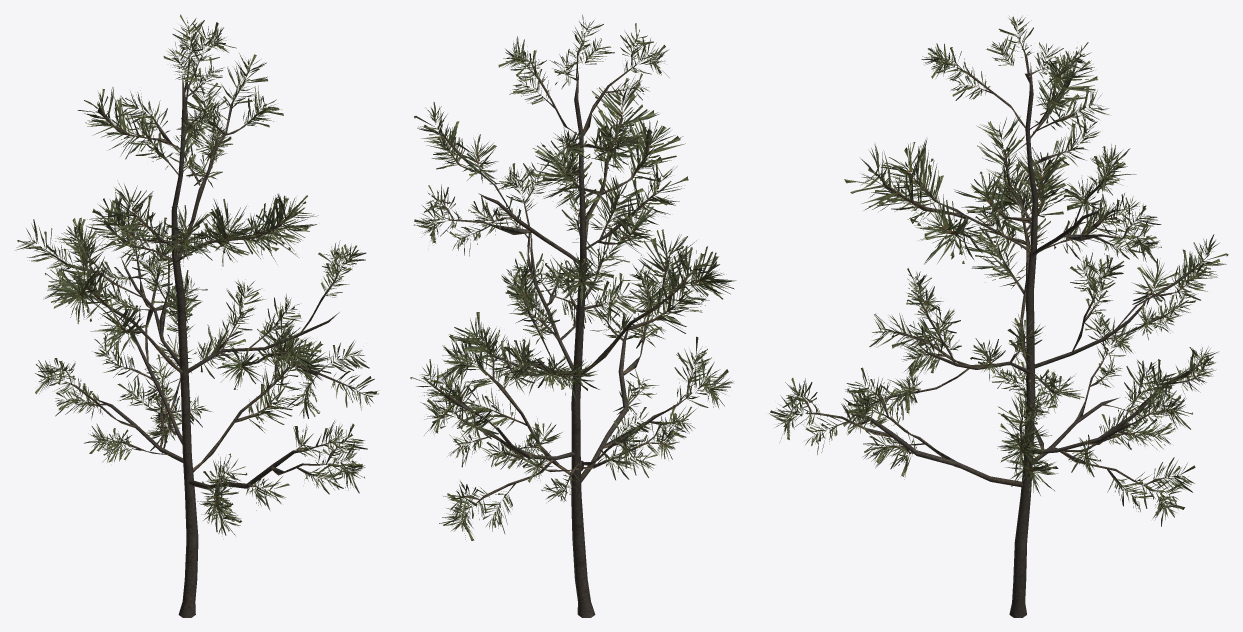
Rendered from tree_pine_mature.glb.
The picture shows the model from 3 angles, left to right: view 1: azimuth 30°, elevation 25°; view 2: azimuth 150°, elevation 25°; view 3: azimuth 270°, elevation 25°; orthographic projection. The views are drawn at different scales.
Parts seen in each view (by area): view 1: tree_pine_mature; view 2: tree_pine_mature; view 3: tree_pine_mature.
Part boxes in pixels (x1,y1,x2,y2): tree_pine_mature: (15, 14, 378, 617); tree_pine_mature: (410, 15, 736, 617); tree_pine_mature: (769, 15, 1228, 617).
Size of what is drawn, in the model's own units: 6.07 by 12 by 8.38.
2 materials, 2 textured.
